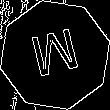M_S: (26, 25, 84, 85)
